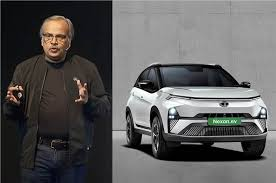Tata Nexon: (124, 61, 268, 161)
